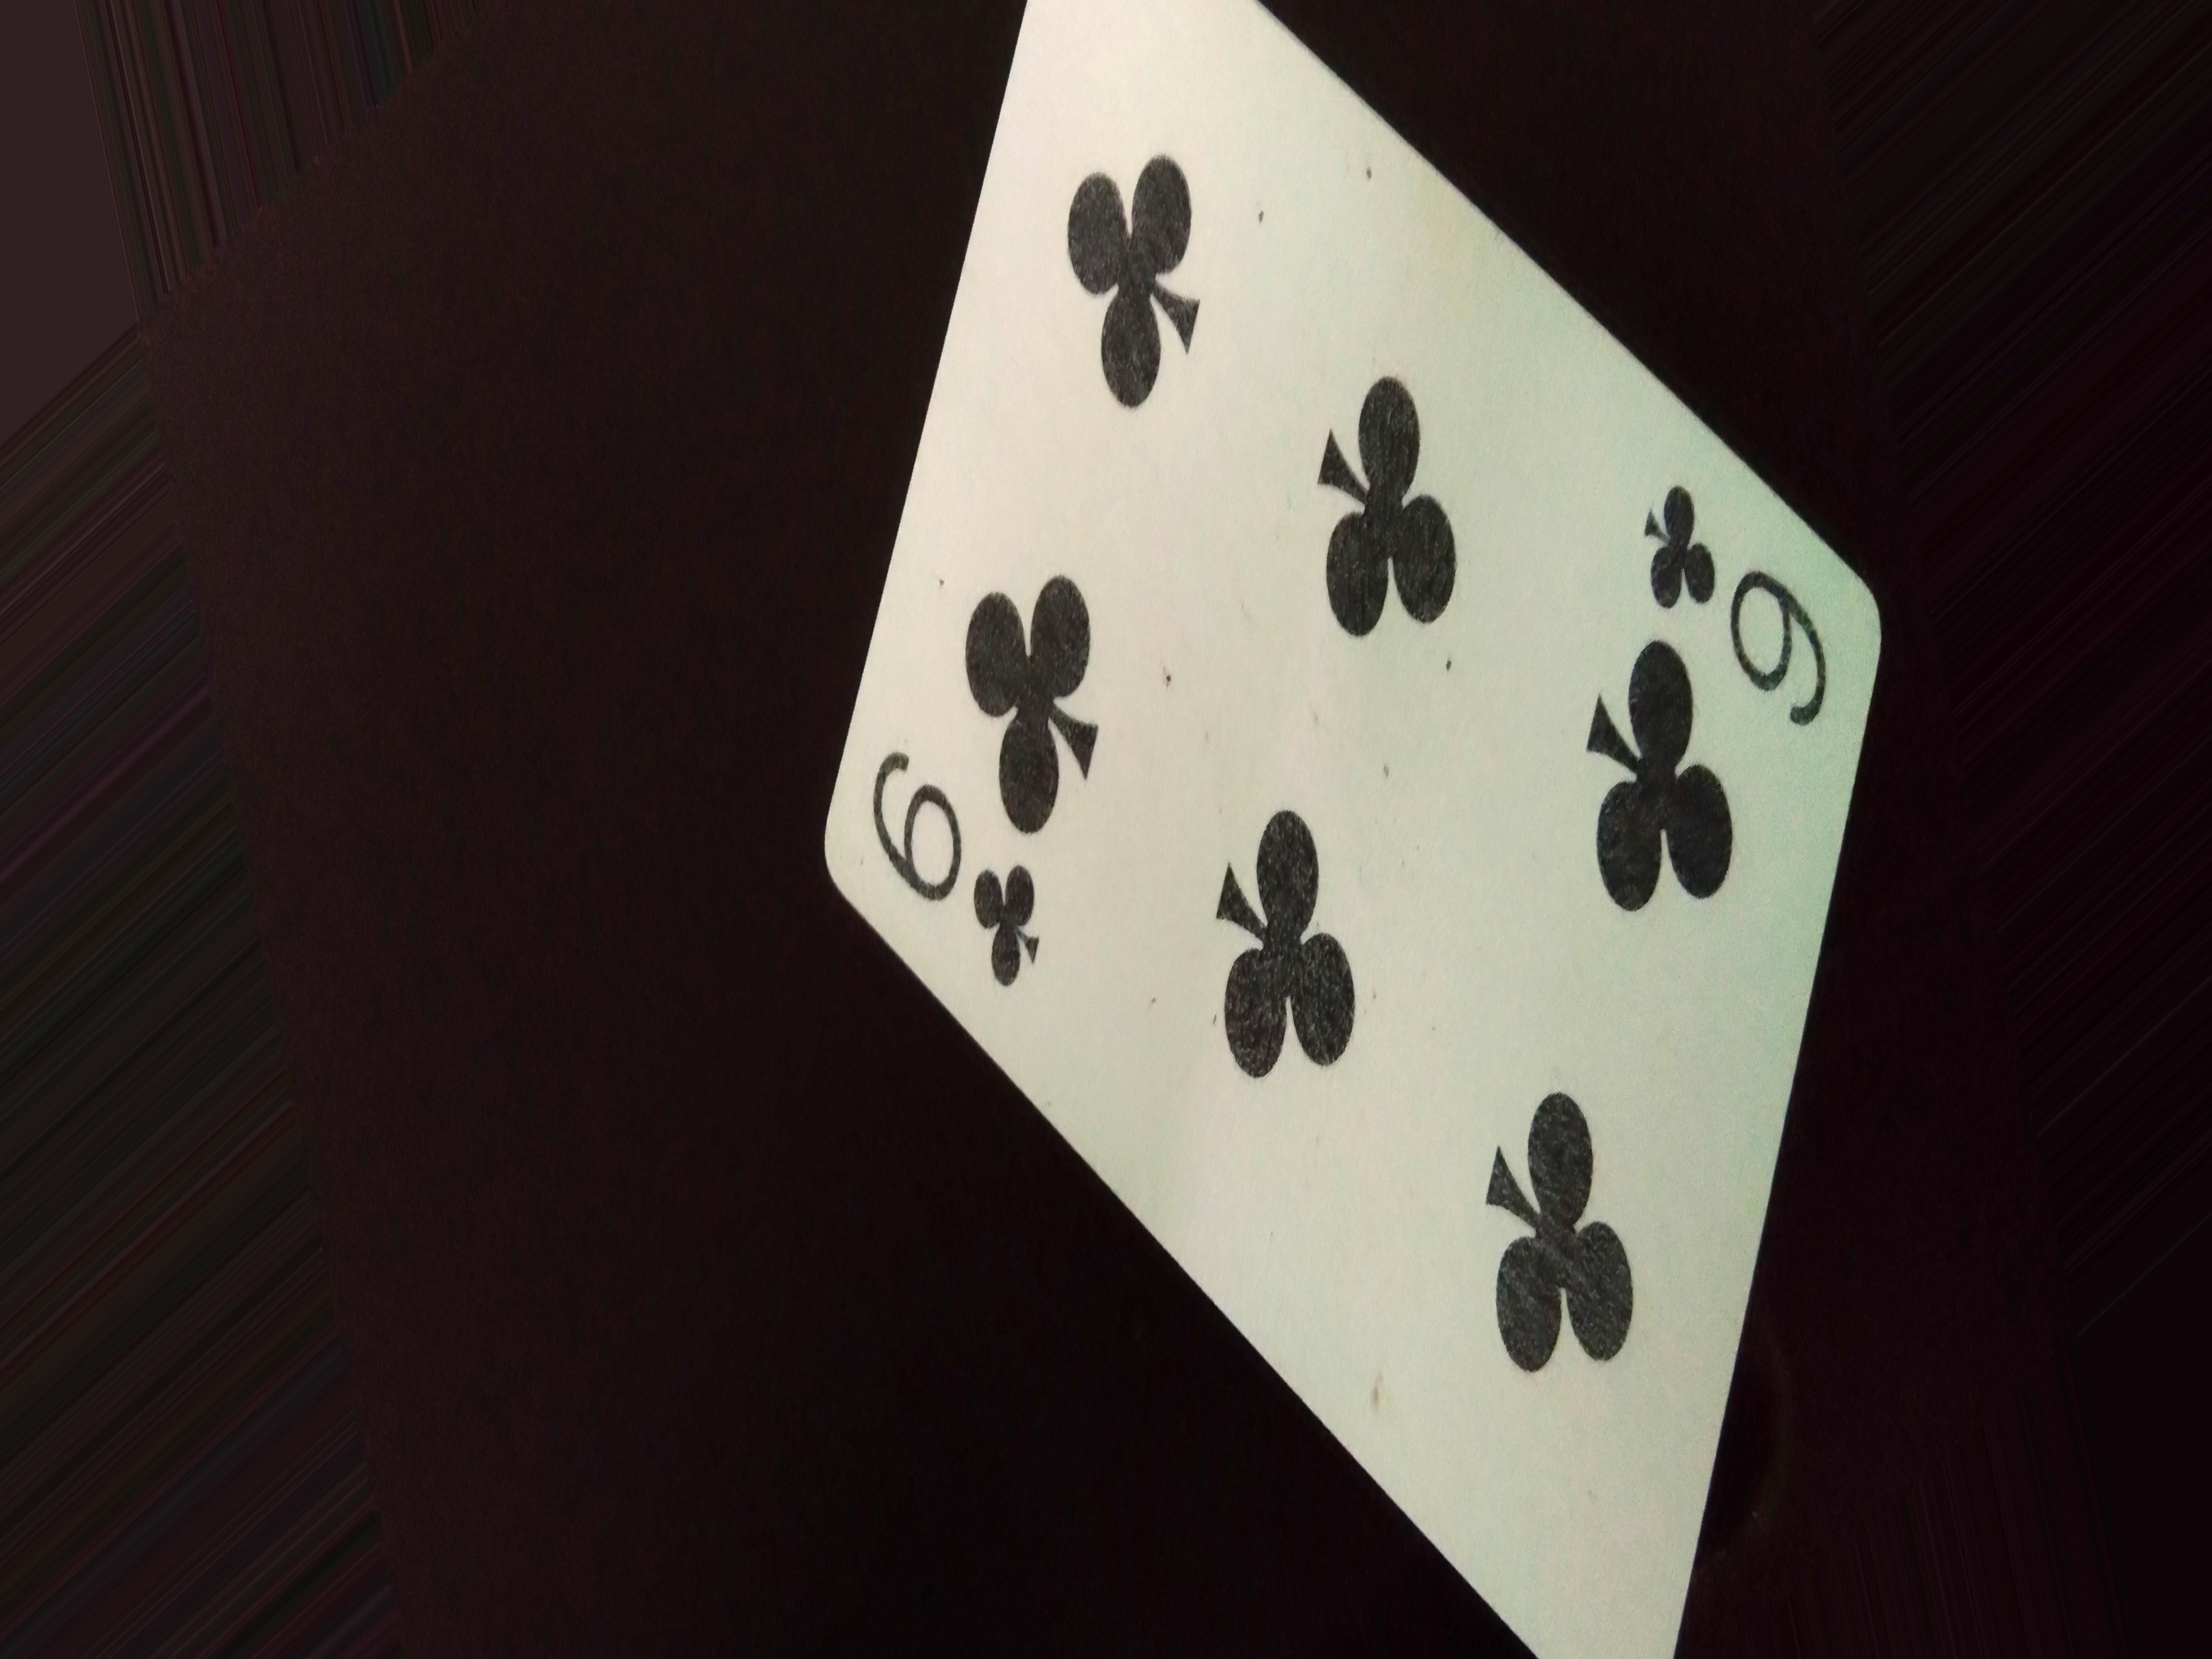6C: (1632, 484, 1876, 721)
